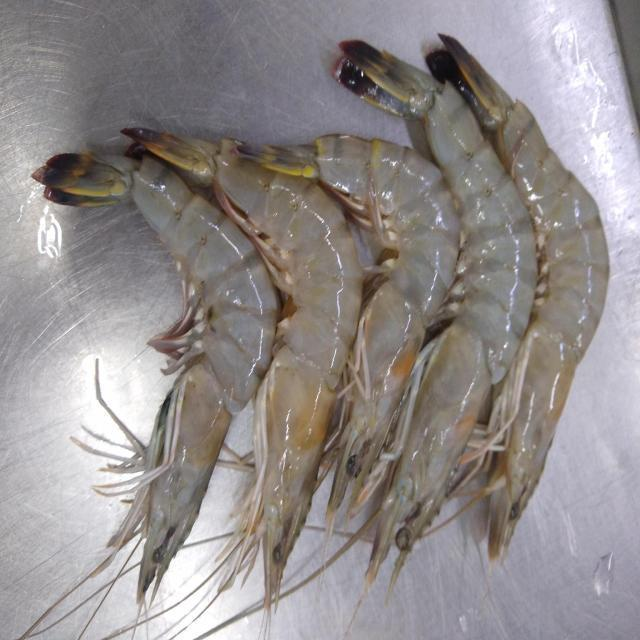shrimp: (125, 127, 363, 611), (32, 152, 278, 606), (429, 36, 611, 561), (364, 82, 538, 594), (314, 134, 460, 534)
